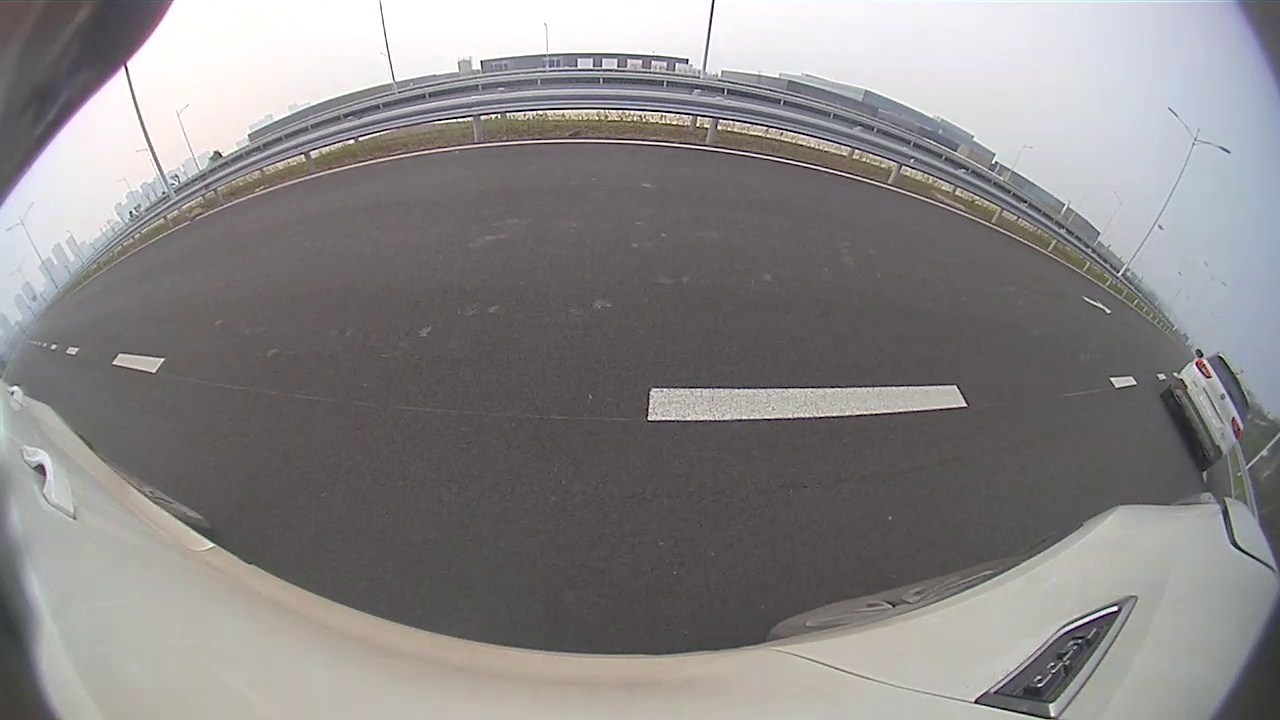car: (689, 156, 734, 188)
